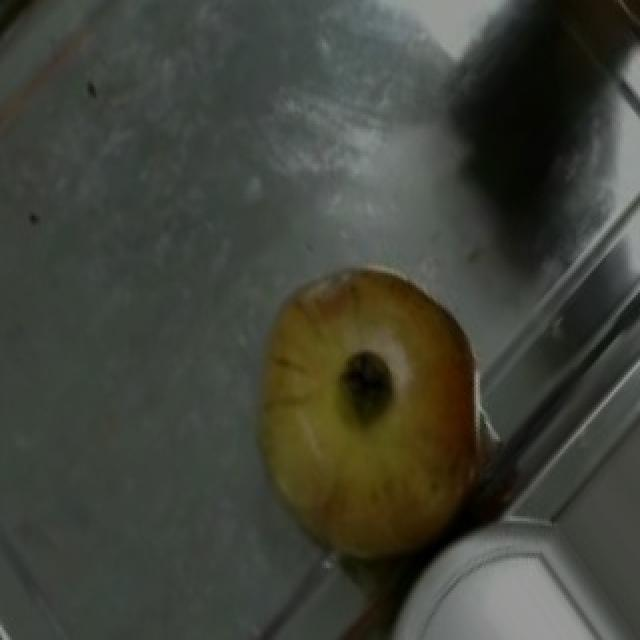fruit: (232, 243, 510, 494)
